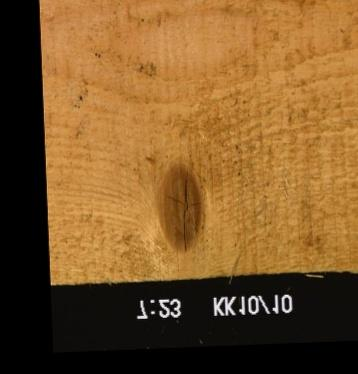sound_knot: (155, 162, 202, 253)
